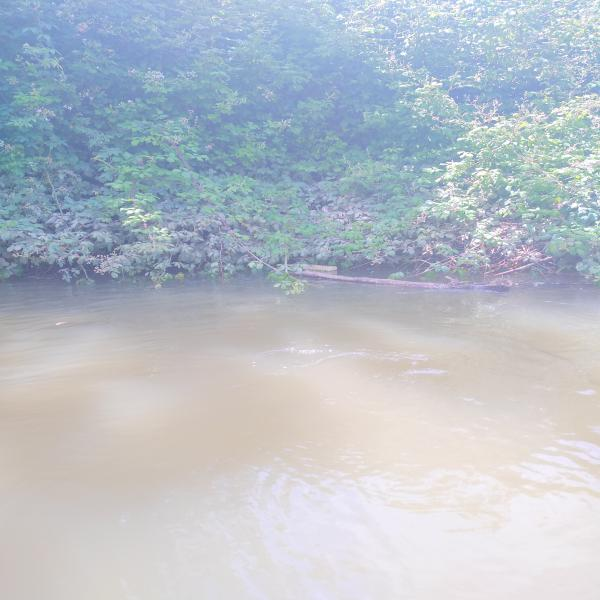others: (293, 262, 341, 270)
